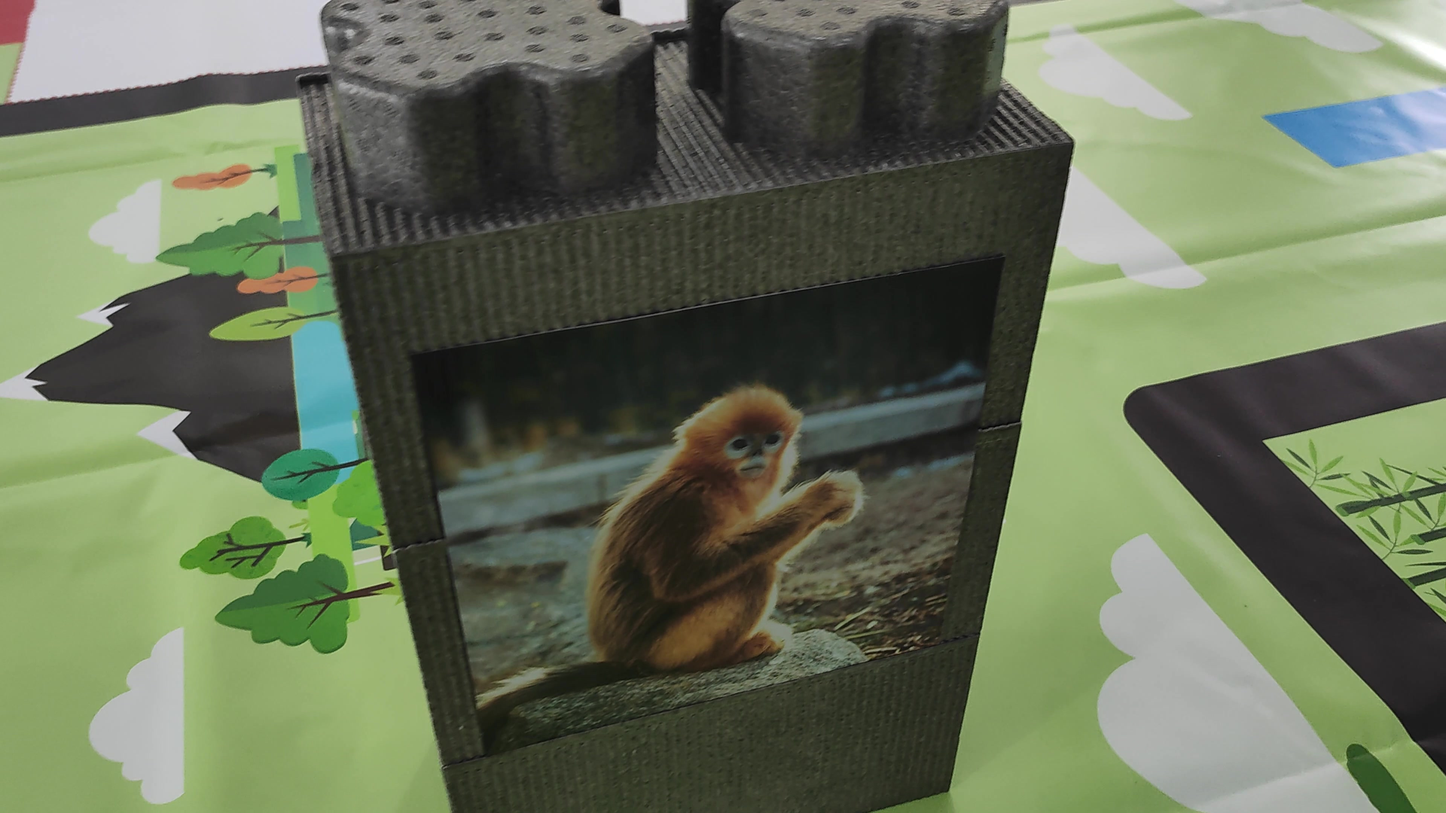monkey: (466, 381, 886, 728)
